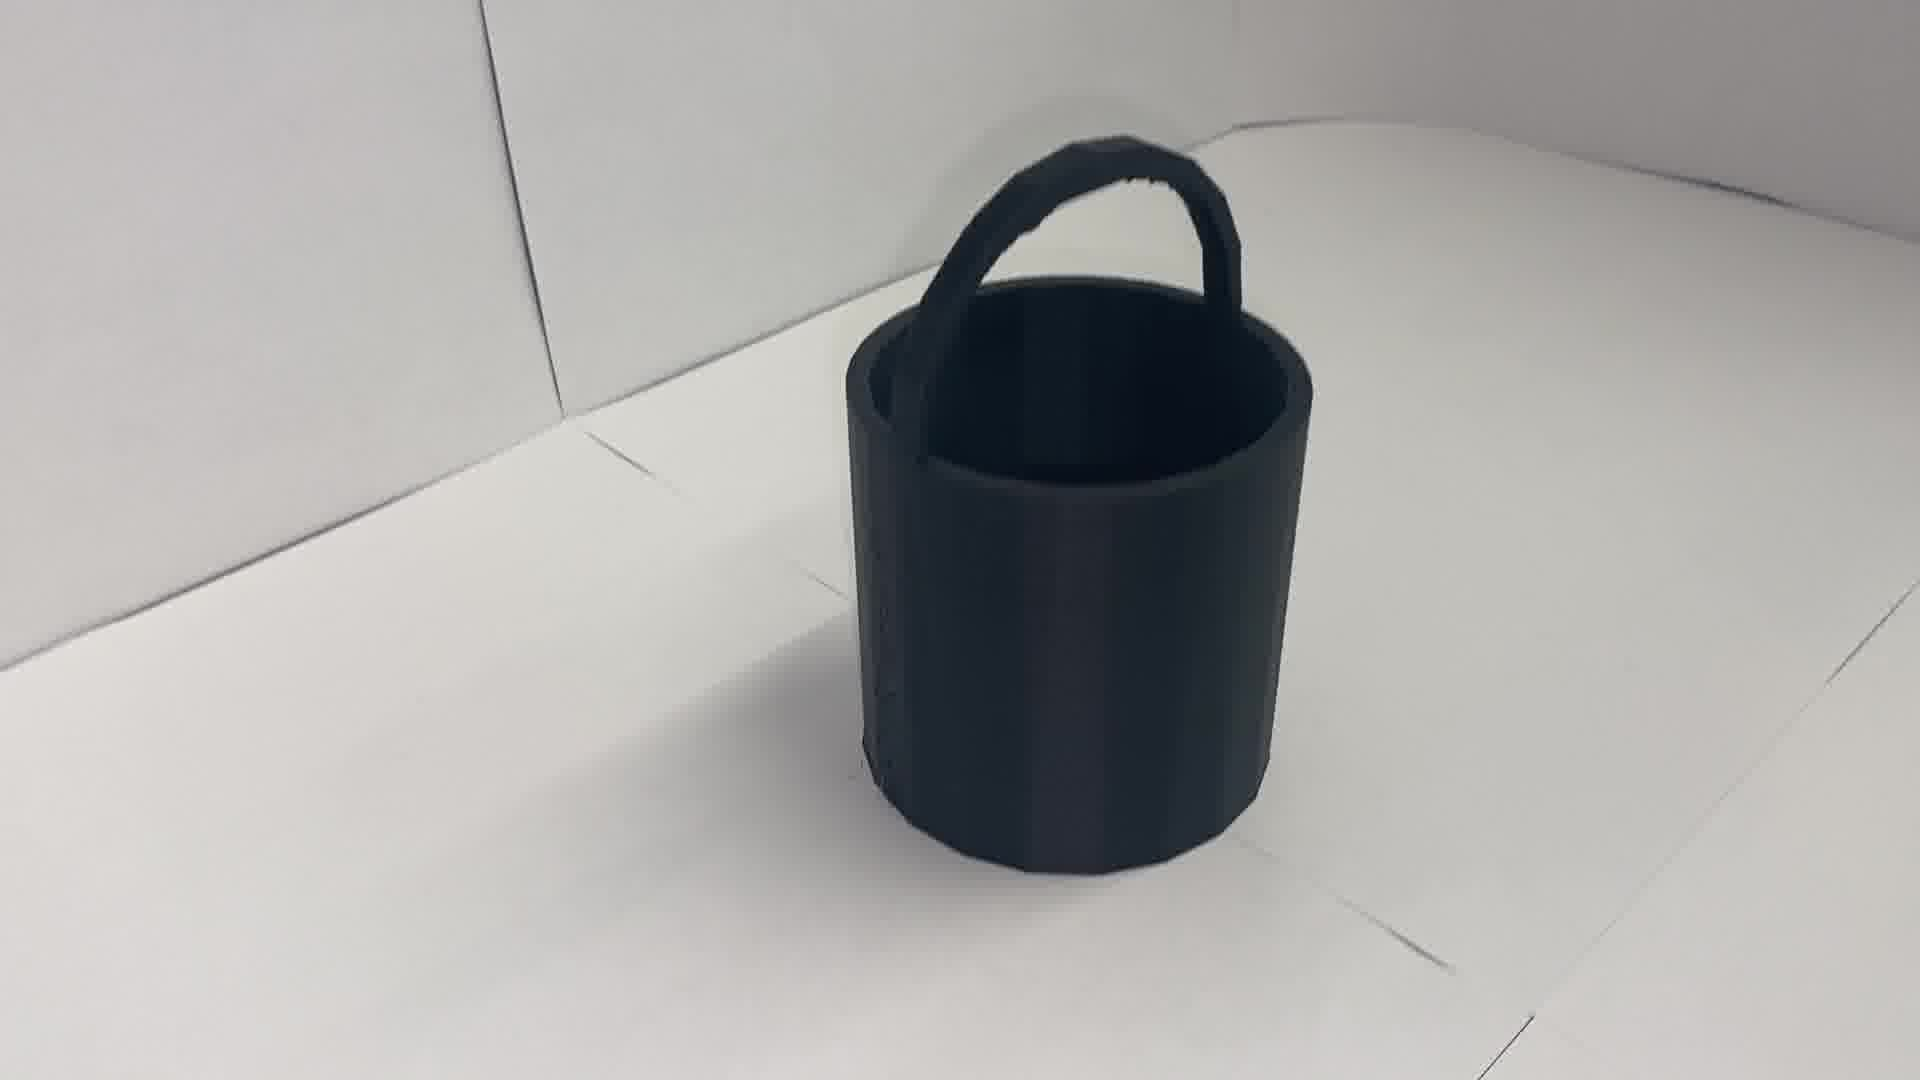bag: (843, 124, 1317, 894)
